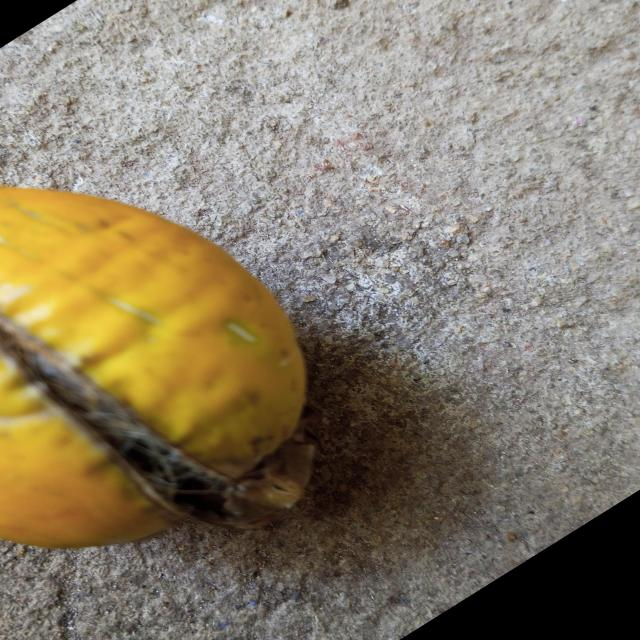damaged: (0, 185, 314, 551)
